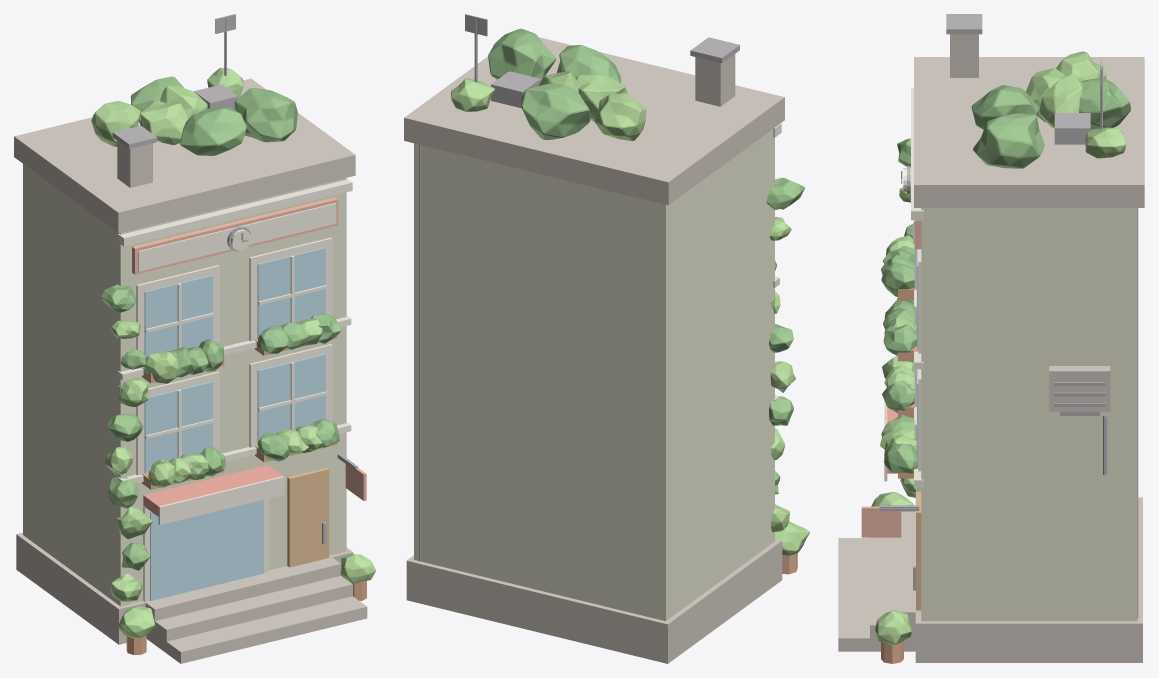
File: Shop_C.fbx
The picture shows the model from 3 angles, left to right: view 1: azimuth 30°, elevation 25°; view 2: azimuth 150°, elevation 25°; view 3: azimuth 270°, elevation 25°; orthographic projection. The views are drawn at different scales.
Parts seen in each view (by area): view 1: Shop_C, Shop_C_Veg; view 2: Shop_C, Shop_C_Veg; view 3: Shop_C, Shop_C_Veg.
Boxes of the visible parts, bbox=[...] form: Shop_C: bbox=[14, 14, 367, 663]; Shop_C_Veg: bbox=[91, 67, 375, 638]; Shop_C: bbox=[404, 14, 797, 663]; Shop_C_Veg: bbox=[451, 28, 809, 555]; Shop_C: bbox=[838, 14, 1144, 663]; Shop_C_Veg: bbox=[871, 51, 1130, 645].
Size of the model in its own units: 4.54 by 8.8 by 4.25.
